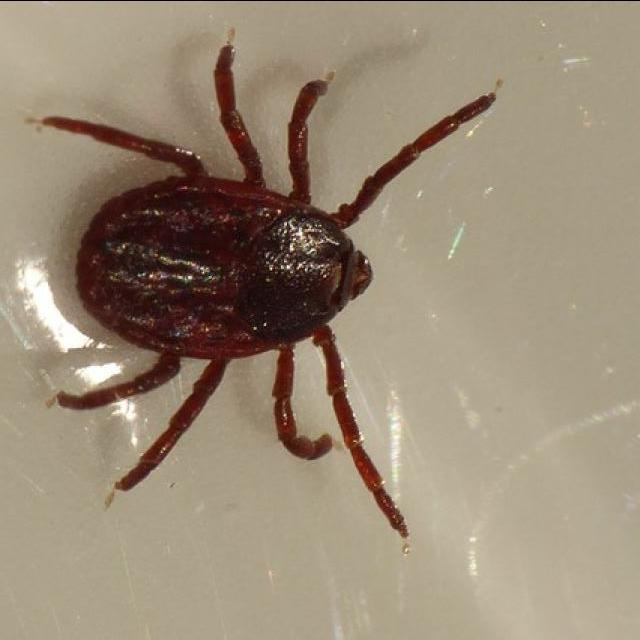Rhipicephalus Sanguineus-F: (38, 37, 494, 540)
